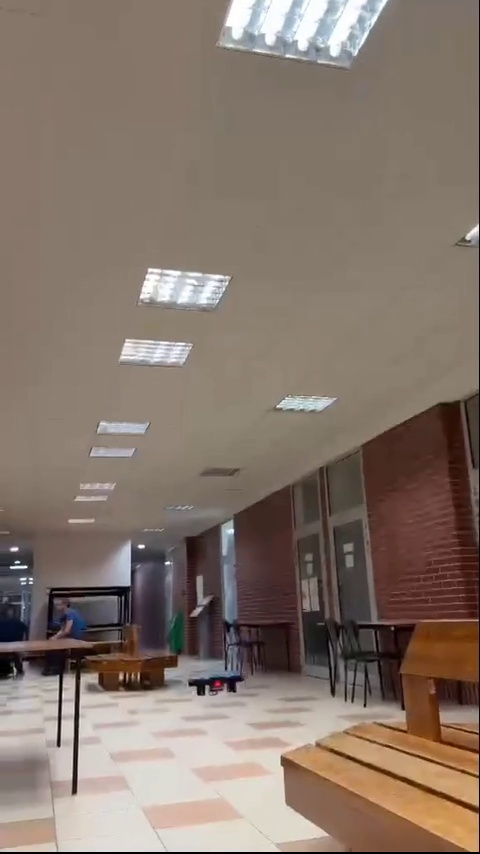drone: (189, 675, 245, 699)
no vest: (50, 597, 89, 645)
